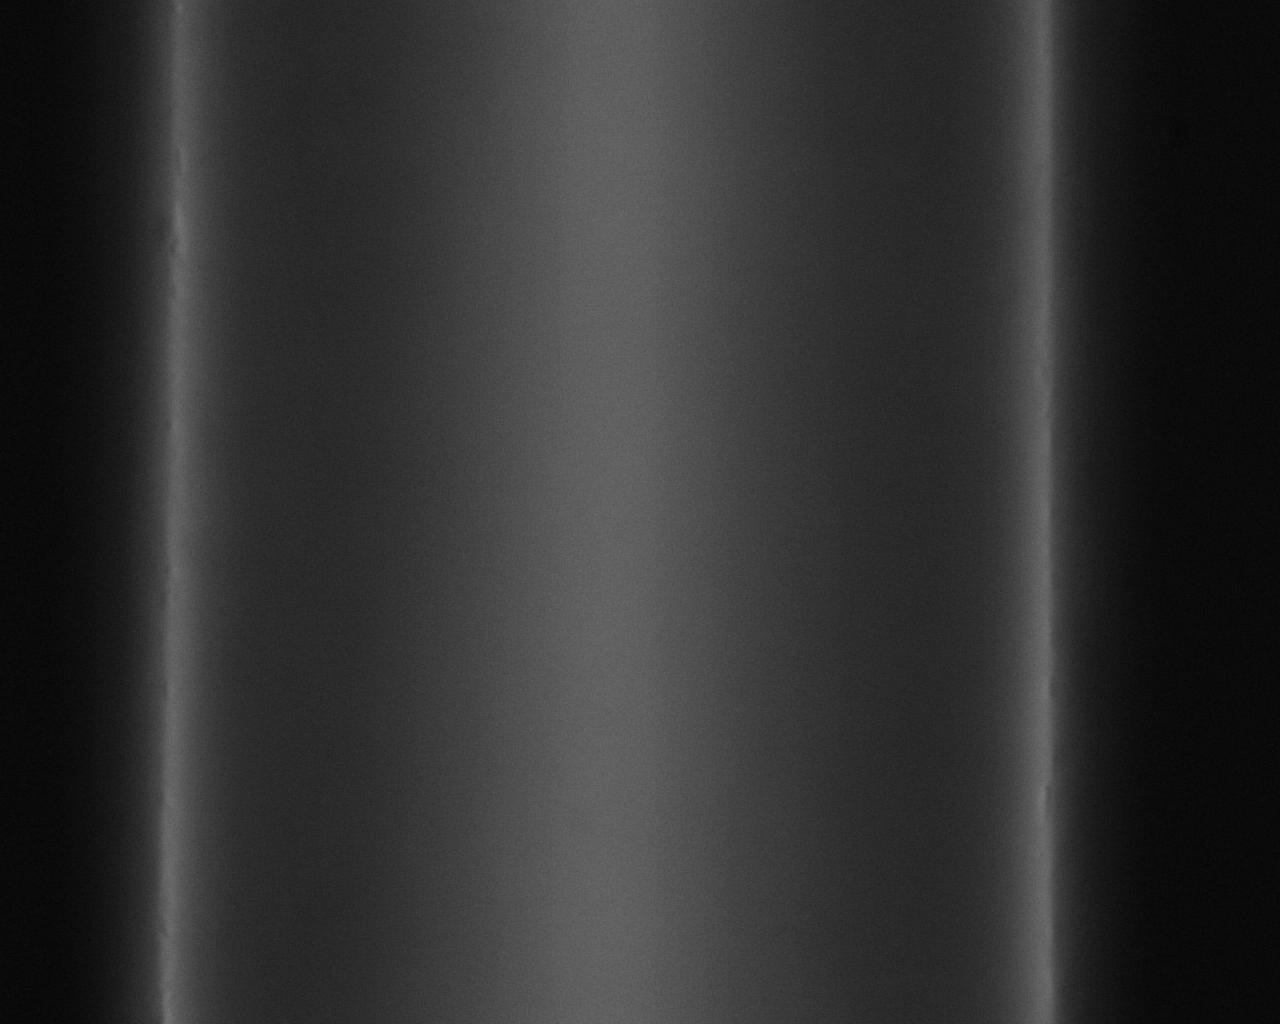fiber: (162, 0, 1056, 1024)
